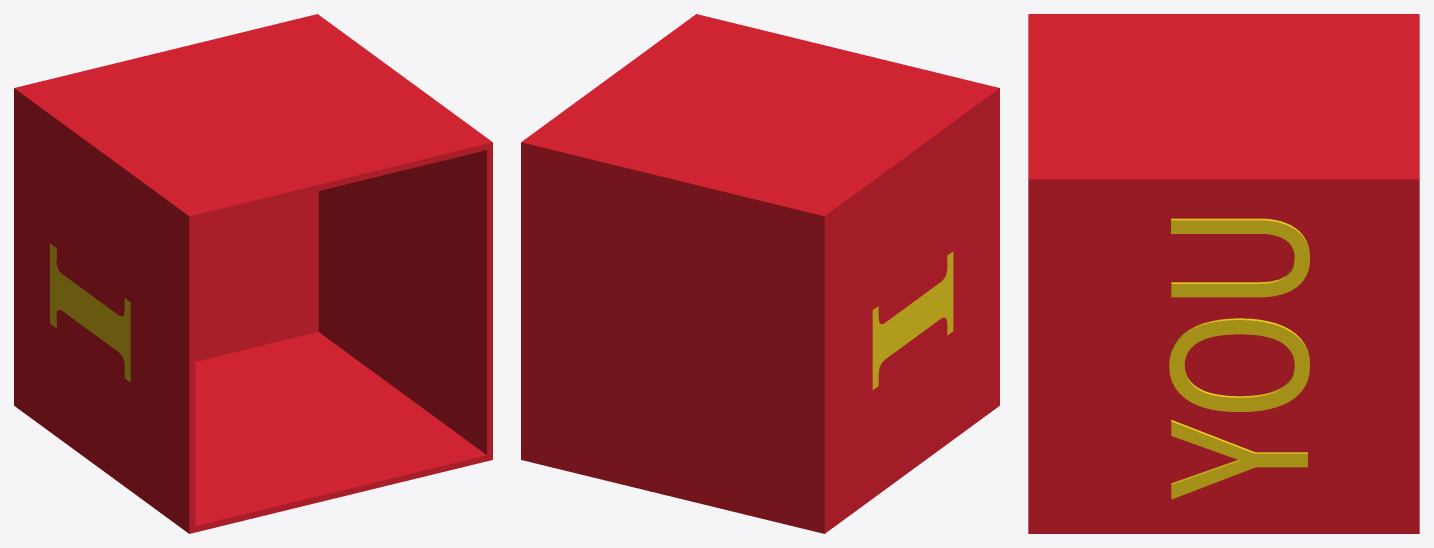
The model's file is tinker.obj.
3 renders of one model, left to right at view 1: azimuth 30°, elevation 25°; view 2: azimuth 150°, elevation 25°; view 3: azimuth 270°, elevation 25°, orthographic. The views are drawn at different scales.
Parts seen in each view (by area): view 1: group_0_15277357, group_0_16768282; view 2: group_0_15277357, group_0_16768282; view 3: group_0_15277357, group_0_16768282.
Part boxes in pixels (x1,y1,x2,y2): group_0_15277357: (14, 14, 492, 533); group_0_16768282: (50, 243, 130, 382); group_0_15277357: (521, 14, 999, 533); group_0_16768282: (872, 251, 953, 389); group_0_15277357: (1028, 14, 1419, 533); group_0_16768282: (1169, 218, 1309, 499).
Bounding box in the file's own units: 52.1 × 50.25 × 50.
